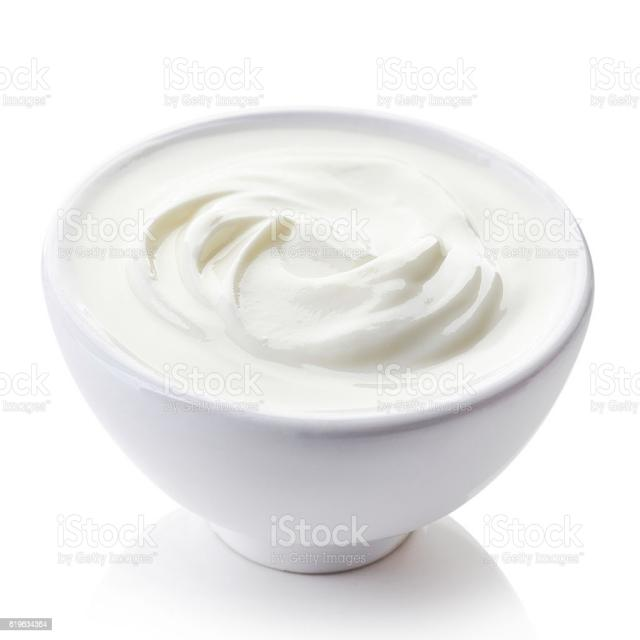yogurt: (38, 103, 590, 589)
